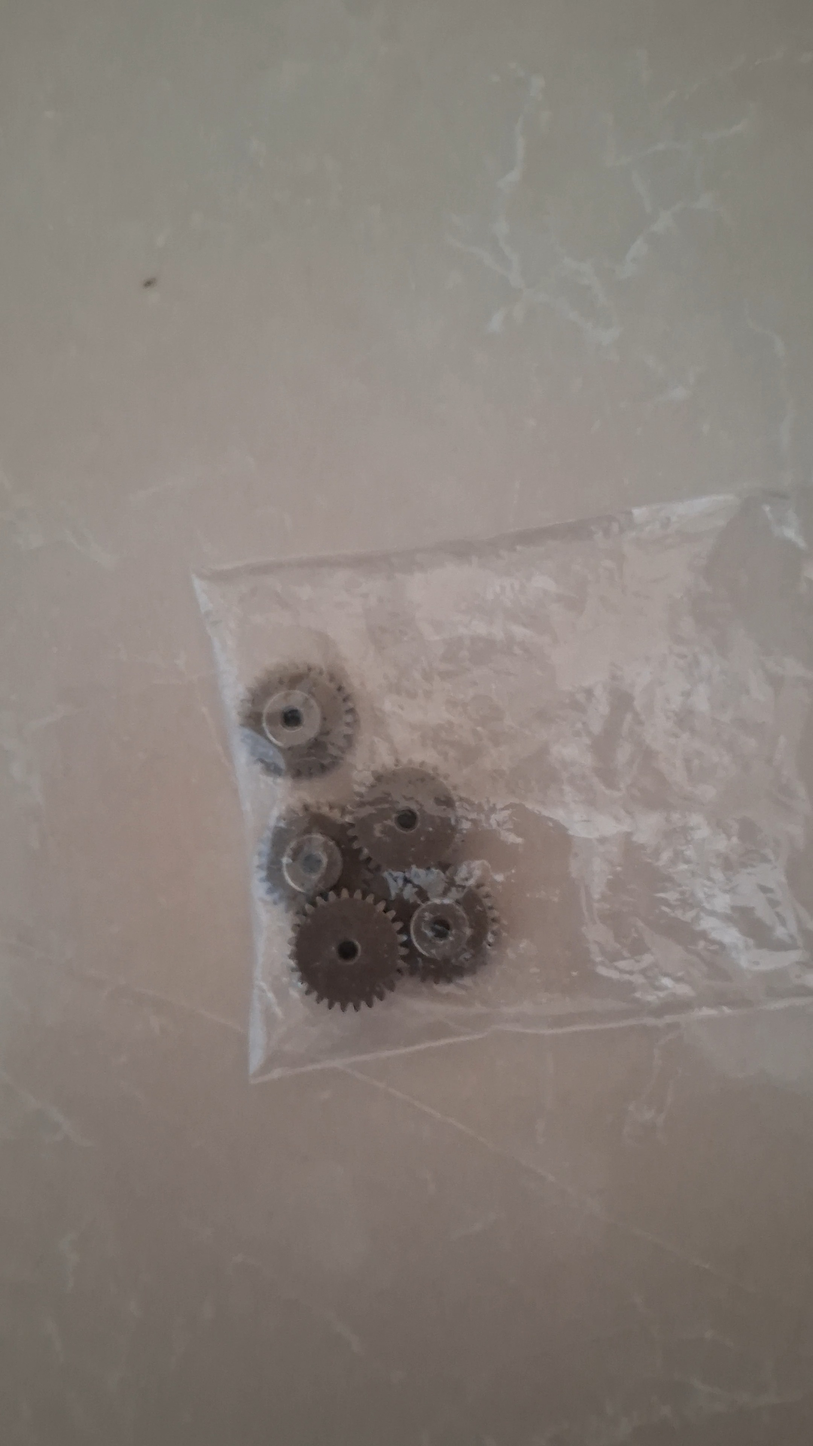spur gear: (291, 890, 405, 1011), (240, 666, 356, 778), (351, 767, 457, 871), (257, 811, 354, 905), (409, 880, 498, 981)
